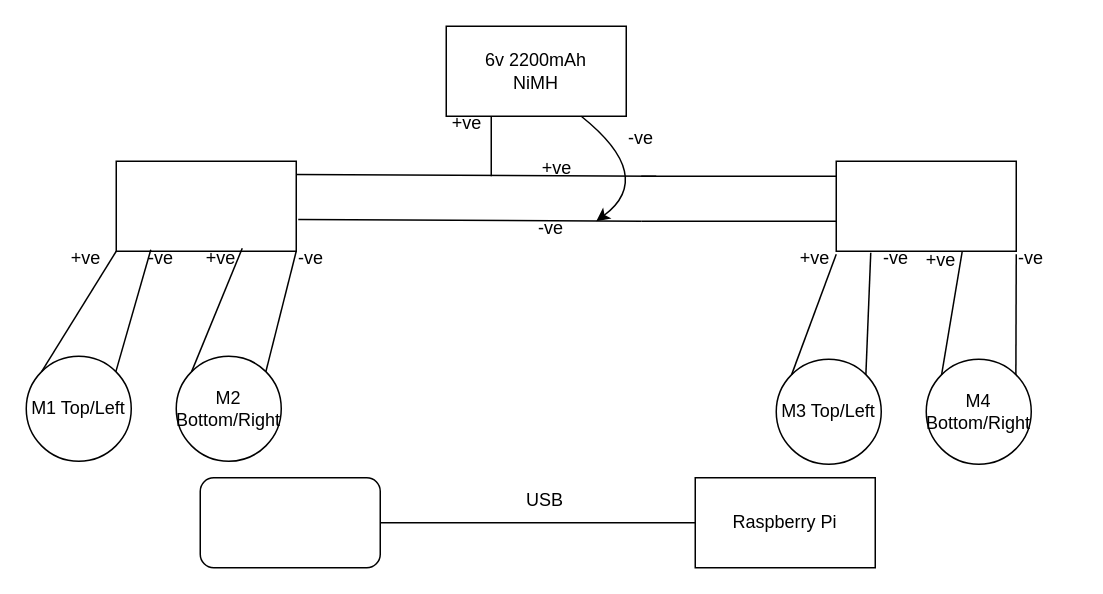
This 1103x594 diagram has some shape labels left out. The shapes that lost their labels are listed below. From the top down, each one's centre as x and y in pixels, then its label:
At point 205,205: "LHS/Top Motor driver board".
At point 925,205: "RHS/Bottom Motor driver board".
At point 289,522: "Power Bank".
